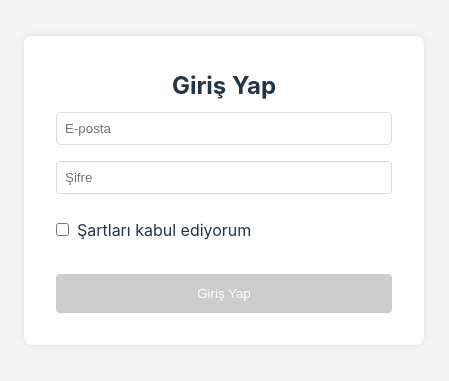
Login Form › hatalı email girişinde hata mesajı göstermeli
Type "invalid-email" into the field named "email" at (224, 129), box [56, 112, 392, 145]
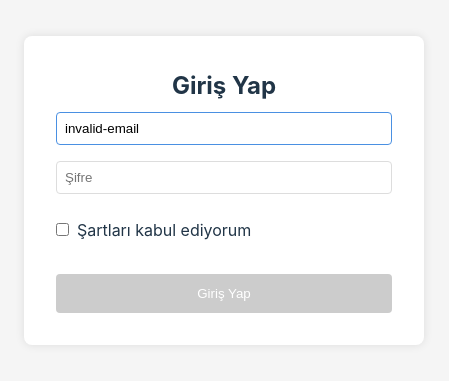
Leave the field named "email", box [56, 112, 392, 145]
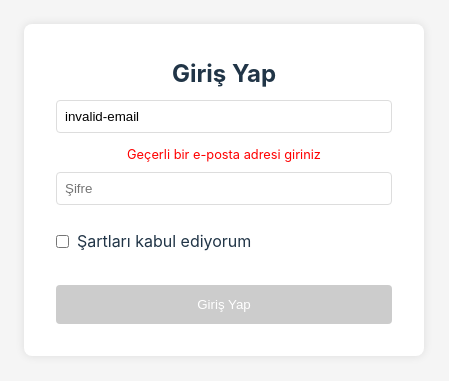
Check: the submit button is disabled, box [56, 285, 392, 324]
Check: the text "Geçerli bir e-posta adresi giriniz" is shown, box [127, 147, 321, 162]
